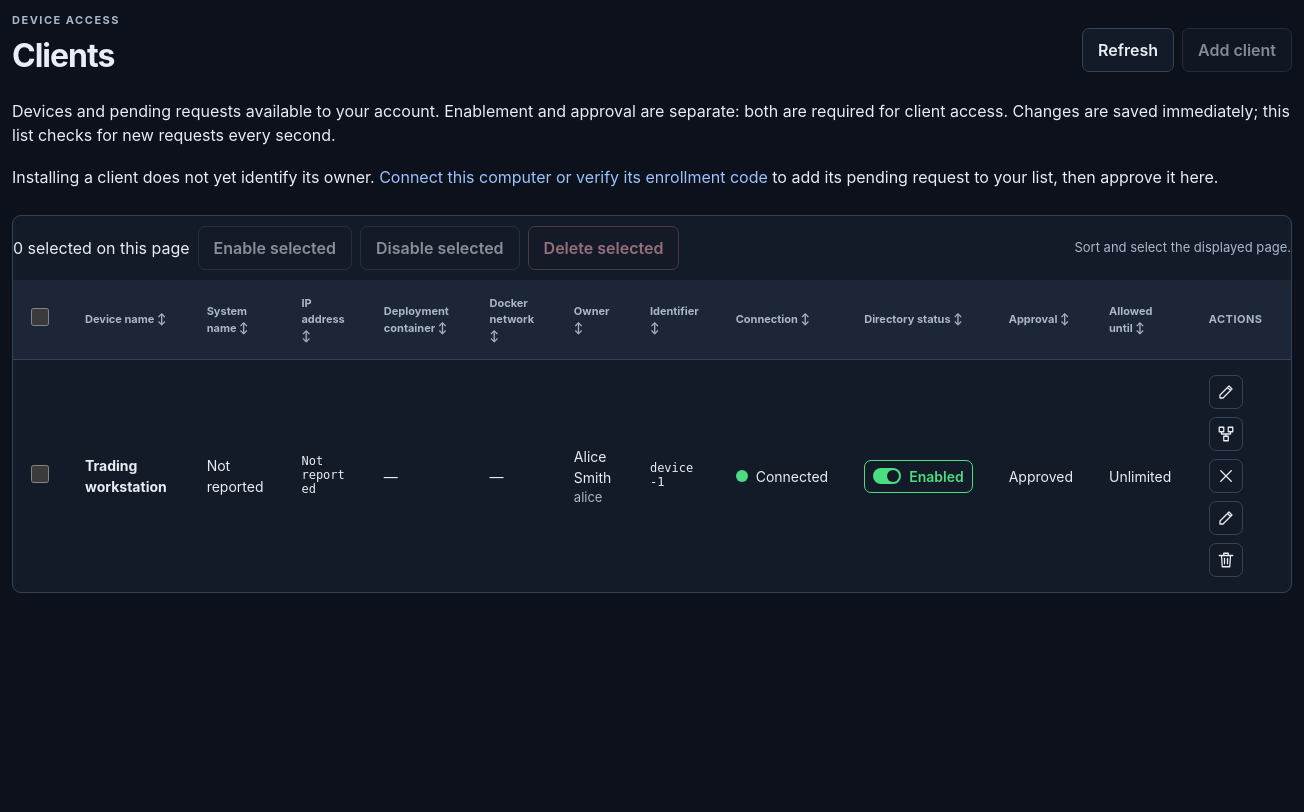
Test: Device management › deapproves without disabling, and disables with directory concurrency independently
Click the button named "Deapprove device-1". click: (1226, 476)
box: [1209,459,1243,493]
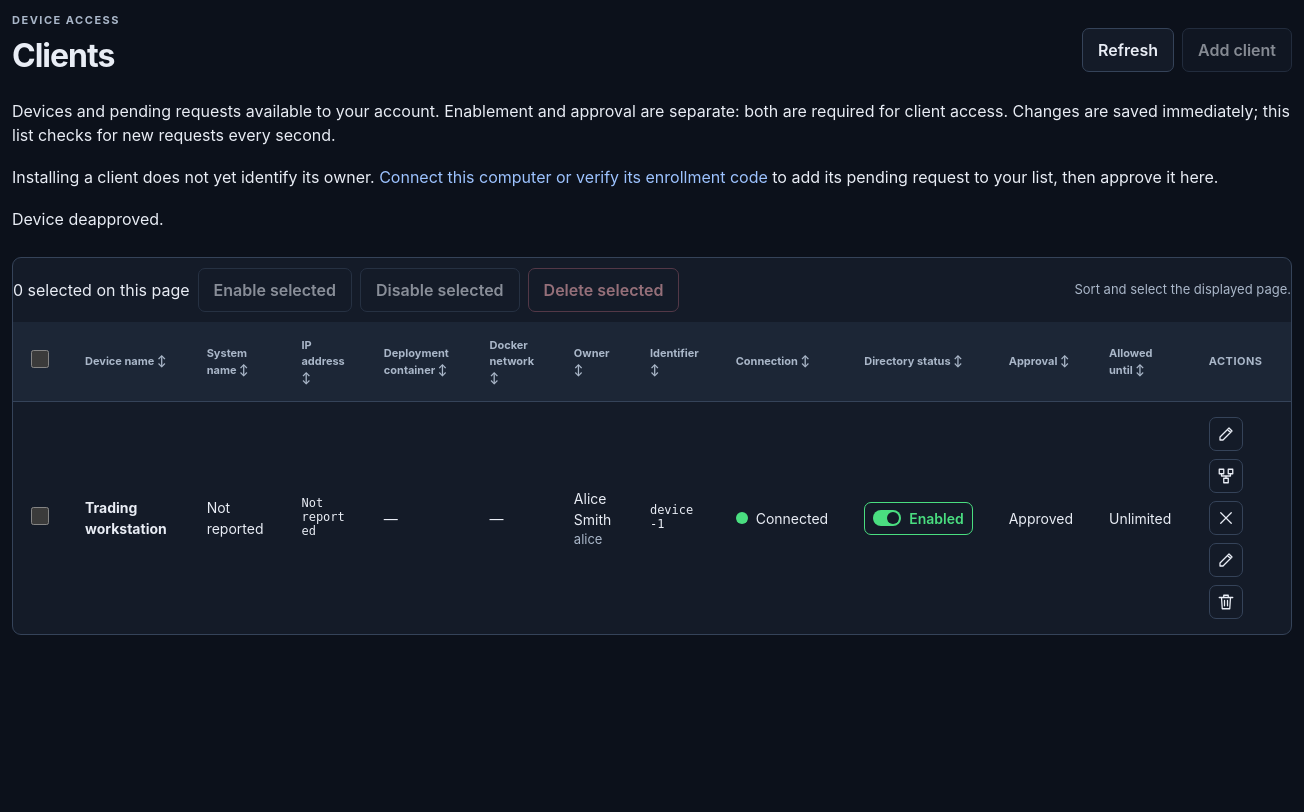
Expected: the text "Device deapproved." is shown, [12,209,164,229]
Click the switch named "Disable device-1". click: (918, 518)
box: [864,502,973,535]
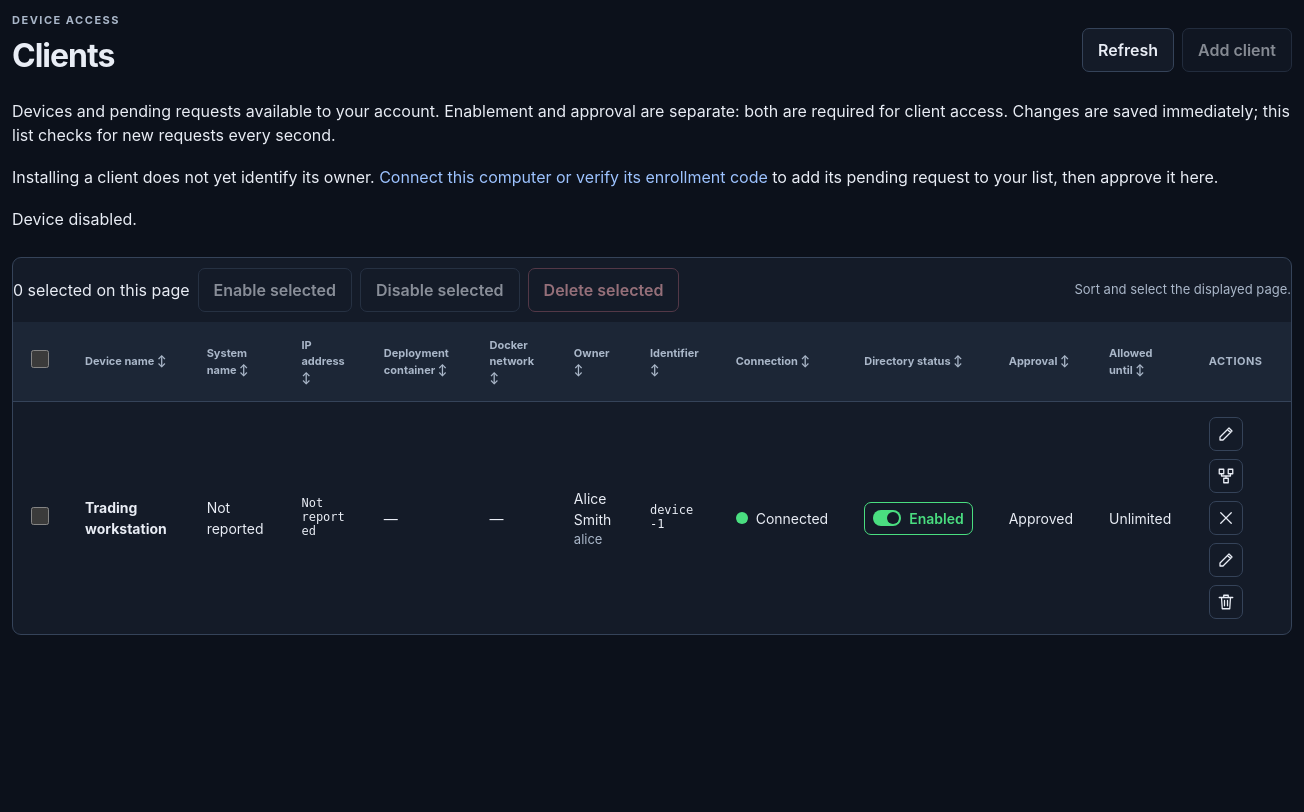
Expected: the text "Device disabled." is shown, [12,209,137,229]
